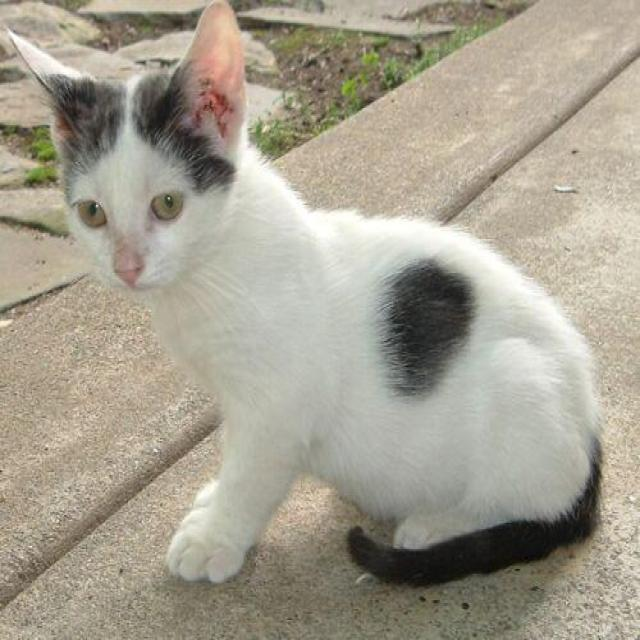cats: (6, 1, 602, 586)
